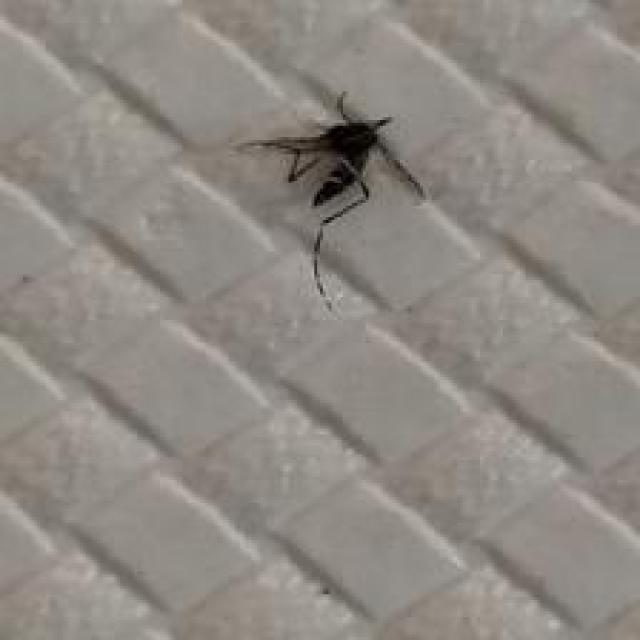Aedes albopictus: (233, 90, 427, 313)
